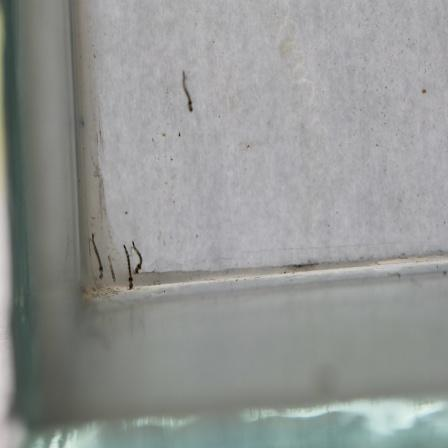Jentik-Nyamuk: (122, 239, 146, 292), (84, 228, 106, 281), (177, 67, 197, 116)
